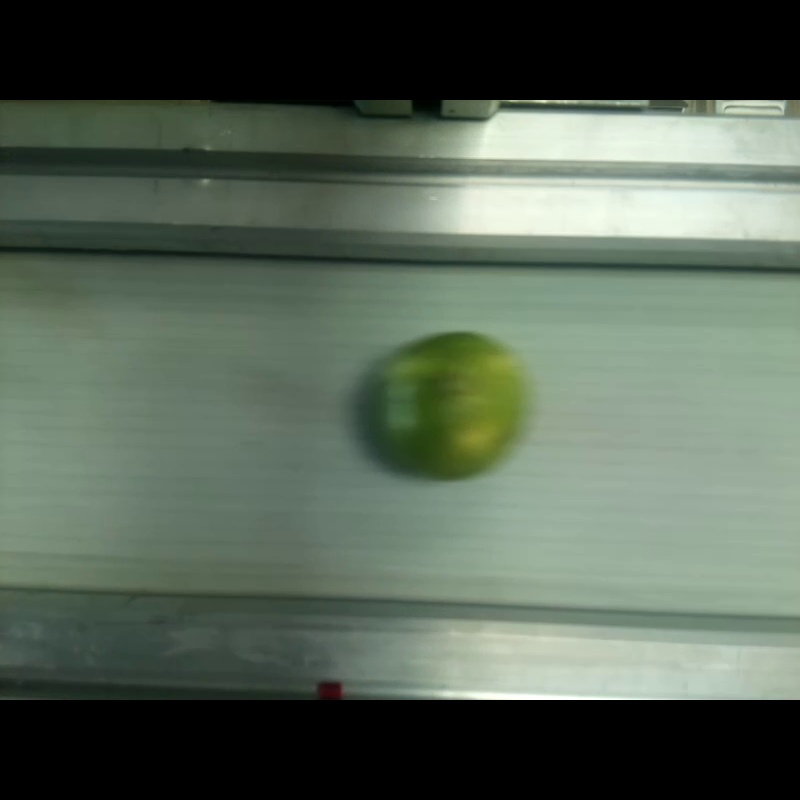lime: (365, 331, 525, 478)
